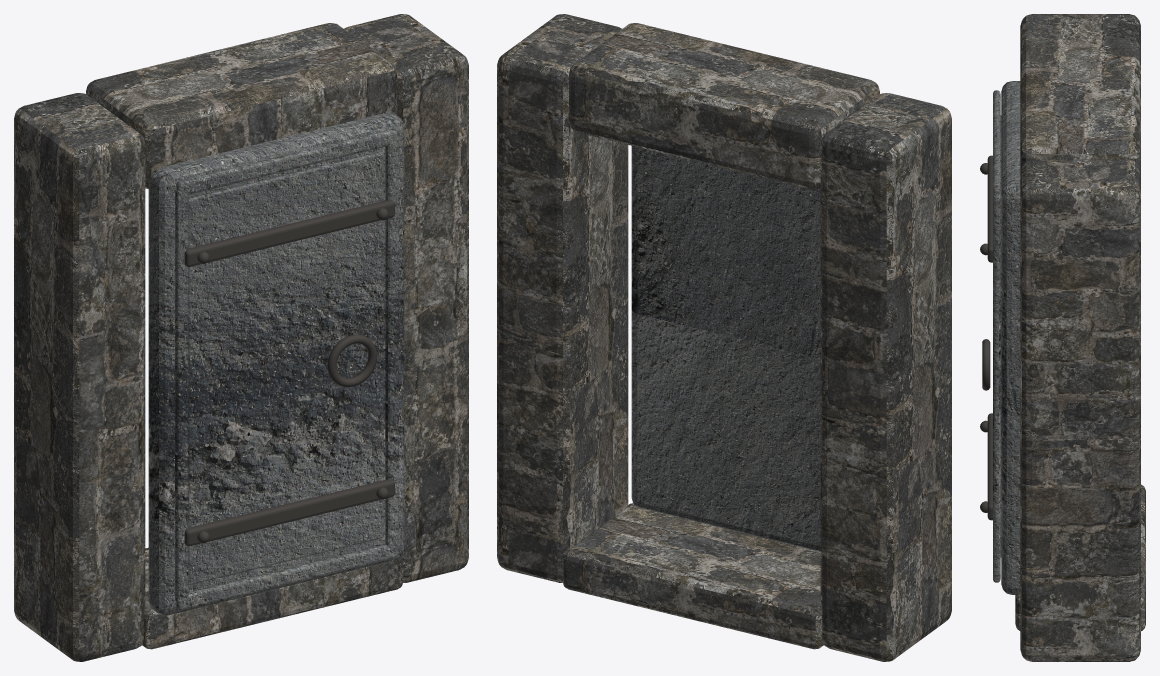
The model's file is secret-stone-door-v02.glb.
The picture shows the model from 3 angles, left to right: view 1: azimuth 30°, elevation 25°; view 2: azimuth 150°, elevation 25°; view 3: azimuth 270°, elevation 25°; orthographic projection. The views are drawn at different scales.
Visible parts, largest first — view 1: Left jamb, Inset door field, Right jamb, Lintel, Closed stone door leaf, Threshold, Door edge stile, Door edge stile.001, Iron reinforcing strap, Iron reinforcing strap.001, Door rail.001, Door rail (+1 smaller); view 2: Left jamb, Closed stone door leaf, Right jamb, Lintel, Threshold; view 3: Right jamb, Lintel, Closed stone door leaf, Door edge stile.001, Left jamb, Threshold, Inset door field, Door rail.001, Iron reinforcing strap, Iron reinforcing strap.001, Iron pull ring.
Boxes of the visible parts, x1=… form: Left jamb: x1=14, y1=93, x2=145, y2=661; Inset door field: x1=188, y1=151, x2=383, y2=584; Right jamb: x1=344, y1=14, x2=468, y2=582; Lintel: x1=86, y1=23, x2=396, y2=188; Closed stone door leaf: x1=148, y1=112, x2=404, y2=615; Threshold: x1=142, y1=547, x2=403, y2=649; Door edge stile: x1=175, y1=189, x2=188, y2=603; Door edge stile.001: x1=385, y1=137, x2=398, y2=550; Iron reinforcing strap: x1=184, y1=479, x2=394, y2=546; Iron reinforcing strap.001: x1=184, y1=200, x2=394, y2=266; Door rail.001: x1=176, y1=128, x2=397, y2=194; Door rail: x1=176, y1=544, x2=397, y2=610; Left jamb: x1=820, y1=93, x2=951, y2=661; Closed stone door leaf: x1=631, y1=146, x2=820, y2=551; Right jamb: x1=497, y1=14, x2=628, y2=582; Lintel: x1=569, y1=23, x2=879, y2=189; Threshold: x1=562, y1=503, x2=823, y2=649; Right jamb: x1=1020, y1=159, x2=1140, y2=661; Lintel: x1=1020, y1=38, x2=1140, y2=170; Closed stone door leaf: x1=1001, y1=81, x2=1020, y2=594; Door edge stile.001: x1=993, y1=195, x2=1000, y2=576; Left jamb: x1=1020, y1=14, x2=1140, y2=49; Threshold: x1=1015, y1=484, x2=1145, y2=630; Inset door field: x1=1000, y1=115, x2=1001, y2=557; Door rail.001: x1=993, y1=90, x2=1000, y2=195; Iron reinforcing strap: x1=987, y1=413, x2=992, y2=520; Iron reinforcing strap.001: x1=987, y1=155, x2=992, y2=262; Iron pull ring: x1=982, y1=339, x2=990, y2=390.
Size of the model in its own units: 2.54 by 3.19 by 0.992.
Materials: 3 (2 with a texture image).
